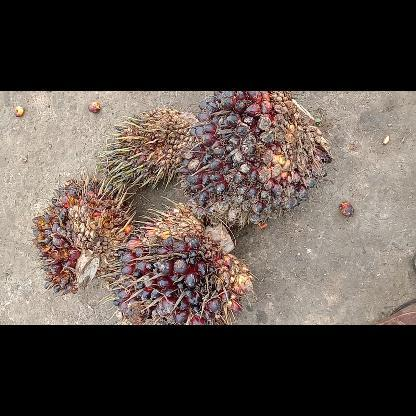Kurang masak: (185, 92, 333, 228), (114, 204, 254, 324)
TBS abnormal: (102, 108, 198, 188)
TBS masak: (32, 178, 130, 290)
